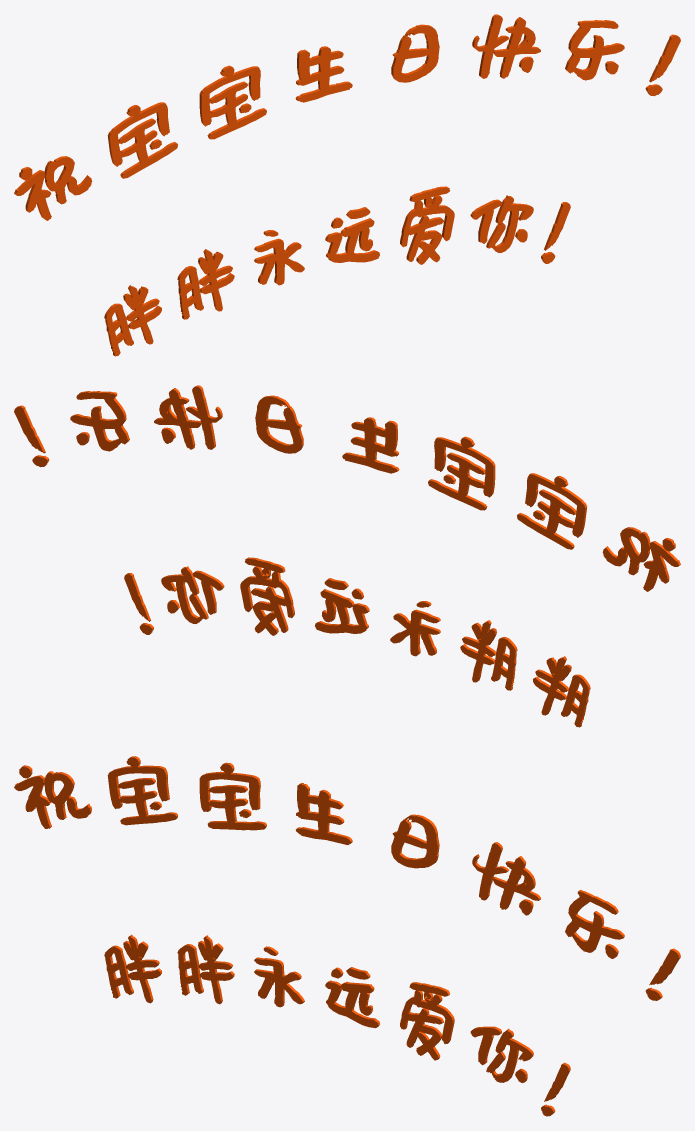
3 views of the same model, one above another, from view 1: azimuth 30°, elevation 25°; view 2: azimuth 150°, elevation 25°; view 3: azimuth 330°, elevation 25° (orthographic).
Visible parts, largest first — view 1: Text; view 2: Text; view 3: Text.
Boxes of the visible parts, x1,y1,x2,y2 form: Text: (14,14,680,356); Text: (14,385,680,727); Text: (14,756,680,1116).
Size of the model in its own units: 320 by 126 by 1.59.
